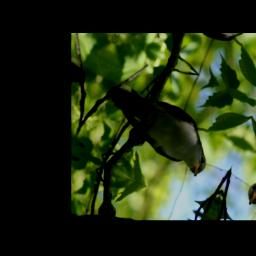Cuckoo: (95, 74, 221, 180)
